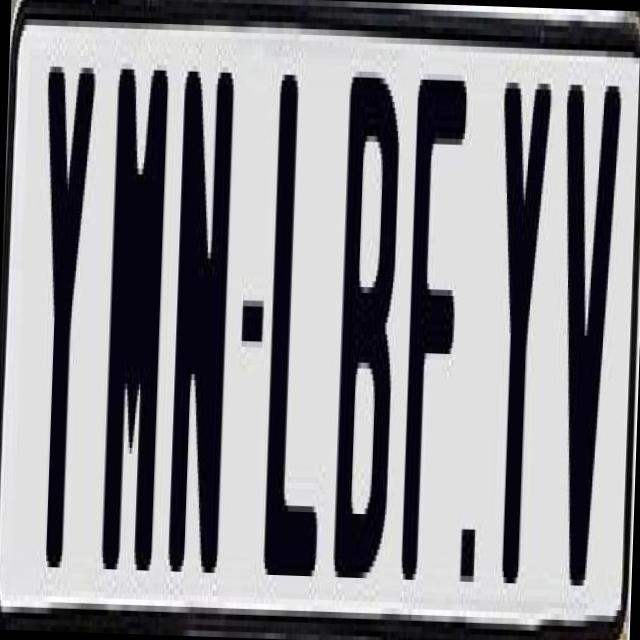B: (330, 59, 405, 567)
F: (400, 67, 472, 570)
L: (263, 57, 338, 565)
M: (96, 51, 164, 576)
N: (166, 59, 240, 585)
V: (544, 84, 622, 622)
Y: (30, 60, 101, 568), (486, 82, 554, 601)
